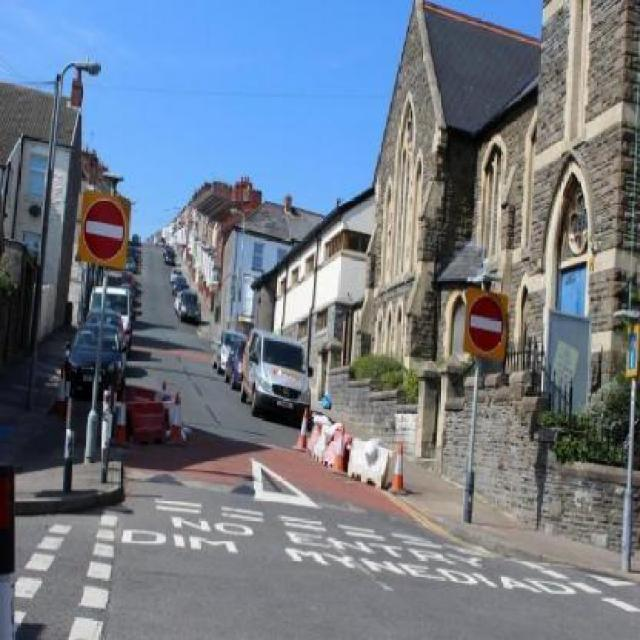traffic_sign: (78, 192, 128, 272), (465, 286, 507, 359)
